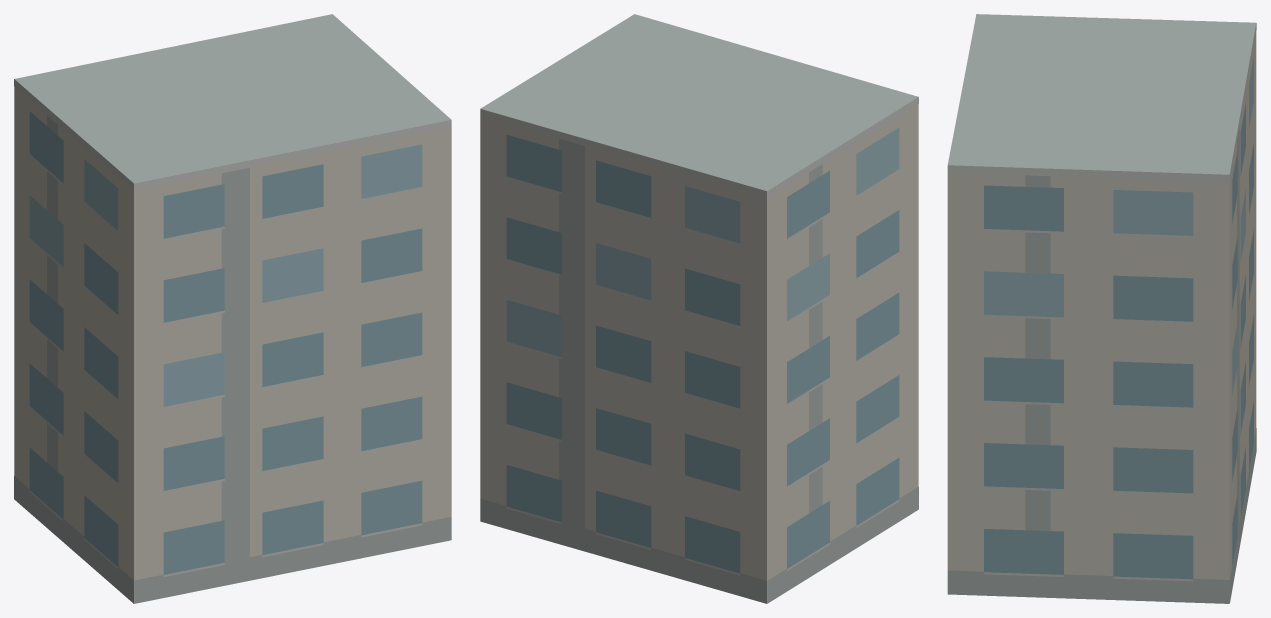
The model's file is survey-upis-33009070.glb.
The picture shows the model from 3 angles, left to right: view 1: azimuth 30°, elevation 25°; view 2: azimuth 150°, elevation 25°; view 3: azimuth 270°, elevation 25°; orthographic projection. The views are drawn at different scales.
Visible parts, largest first — view 1: survey-upis-33009070.tmp; view 2: survey-upis-33009070.tmp; view 3: survey-upis-33009070.tmp.
Part boxes in pixels (box(x1,y1,x2,y2)): survey-upis-33009070.tmp: box(14, 14, 451, 603); survey-upis-33009070.tmp: box(480, 14, 918, 603); survey-upis-33009070.tmp: box(947, 14, 1256, 603).
Bounding box in the file's own units: 11.17 × 13.9 × 9.07.
